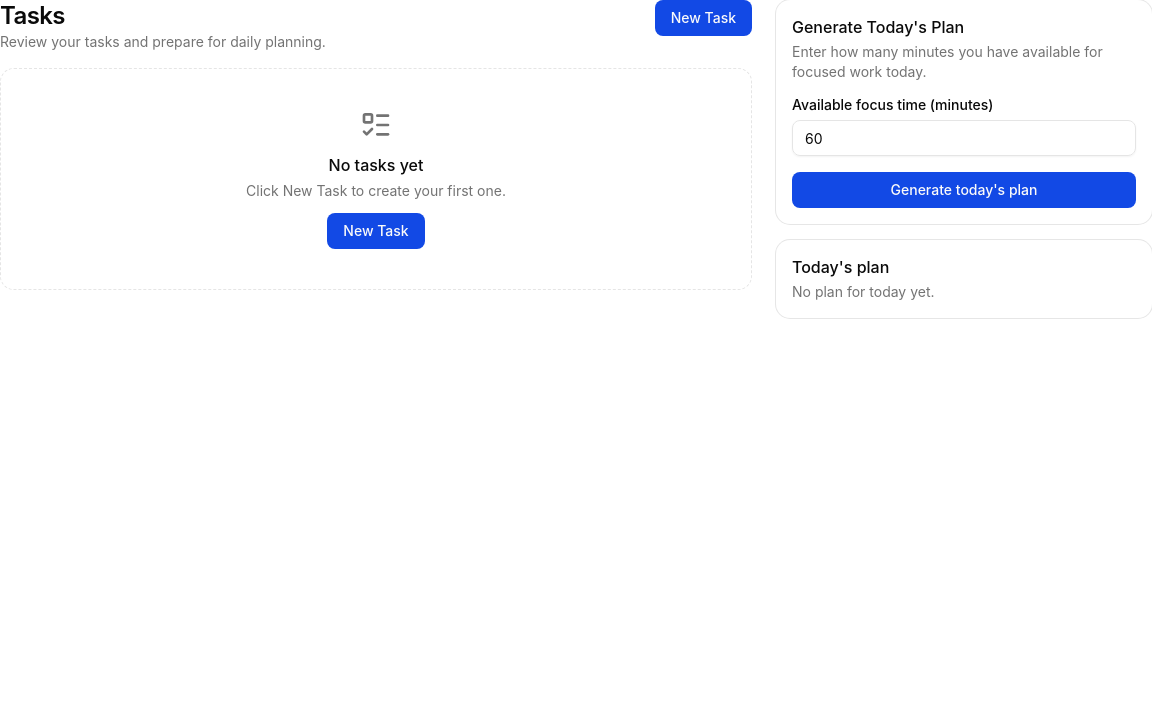
Test case: DashboardPage › closes the sheet after a successful create
Click the 1st button "New Task" at (703, 18), box [655,0,752,36]
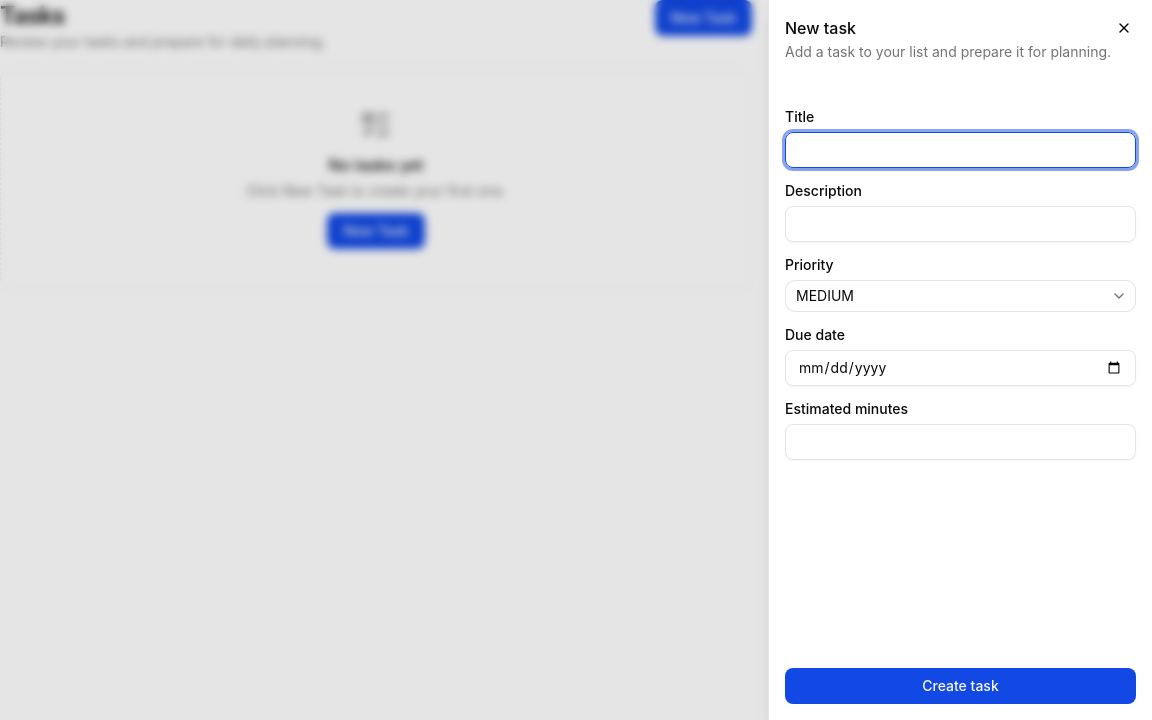
Now the dialog is shown, box [768,0,1151,719]
Type "Write tests" into the field labelled "Title" at (960, 150), box [785,132,1136,168]
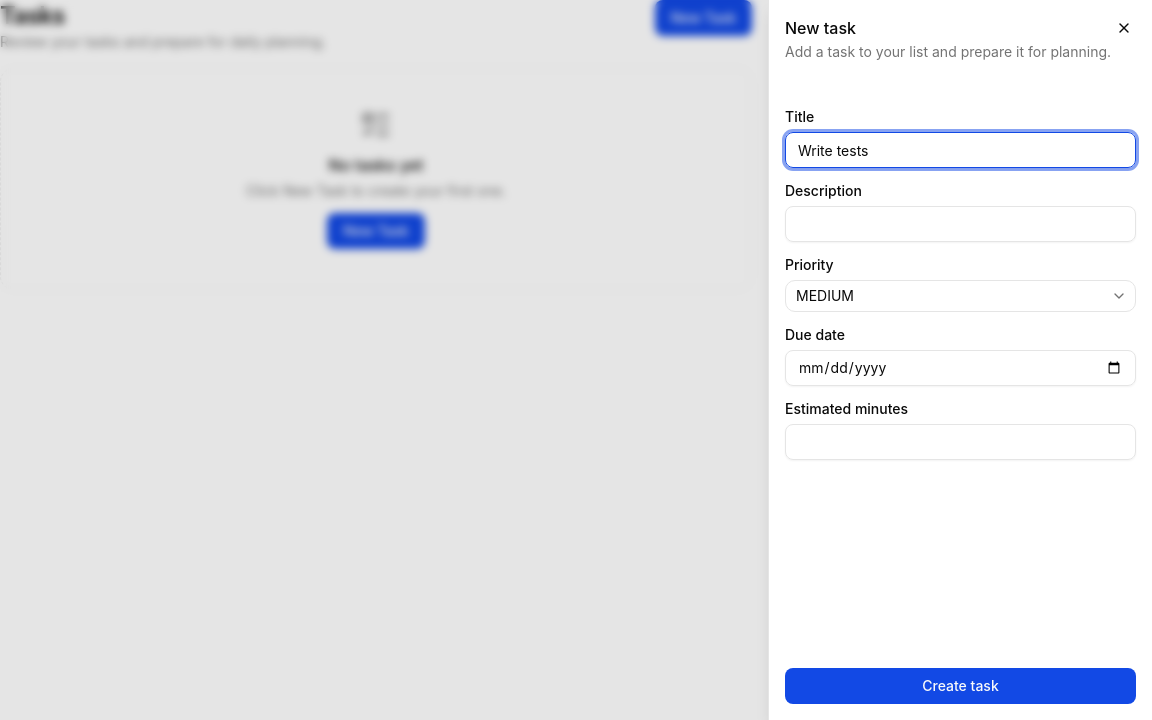
Click the button "Create task" at (960, 686), box [785,668,1136,704]
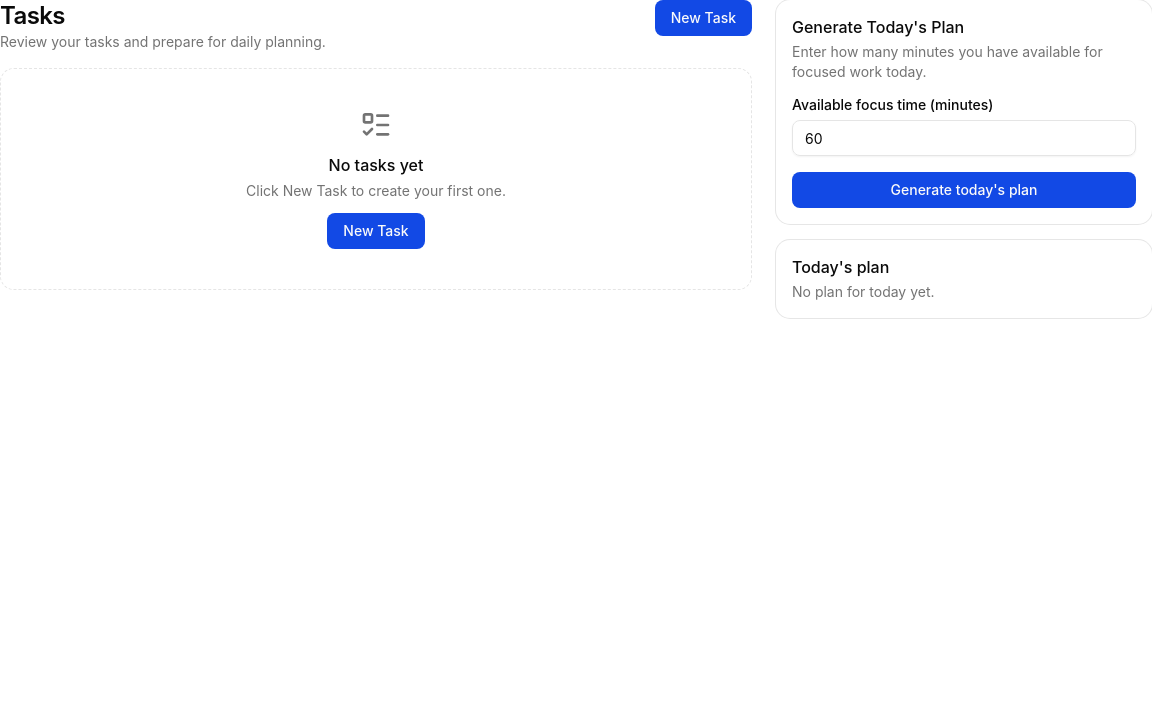
Now the dialog is gone
